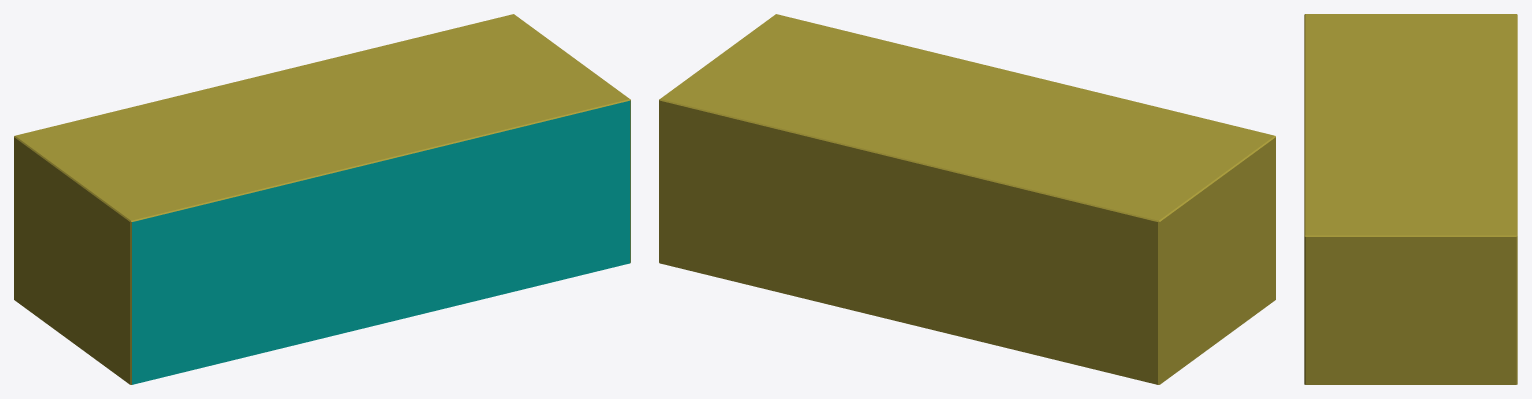
File: Textured_LargeClosedBoxKK.fbx
The picture shows the model from 3 angles, left to right: view 1: azimuth 30°, elevation 25°; view 2: azimuth 150°, elevation 25°; view 3: azimuth 270°, elevation 25°; orthographic projection. The views are drawn at different scales.
Visible parts, largest first — view 1: SmallClosedBox; view 2: SmallClosedBox; view 3: SmallClosedBox.
Boxes of the visible parts, left/top/right/bottom form: SmallClosedBox: left=14, top=14, right=630, bottom=384; SmallClosedBox: left=659, top=14, right=1275, bottom=384; SmallClosedBox: left=1304, top=14, right=1517, bottom=384.
Size of the model in its own units: 86.39 by 27.01 by 35.05.
